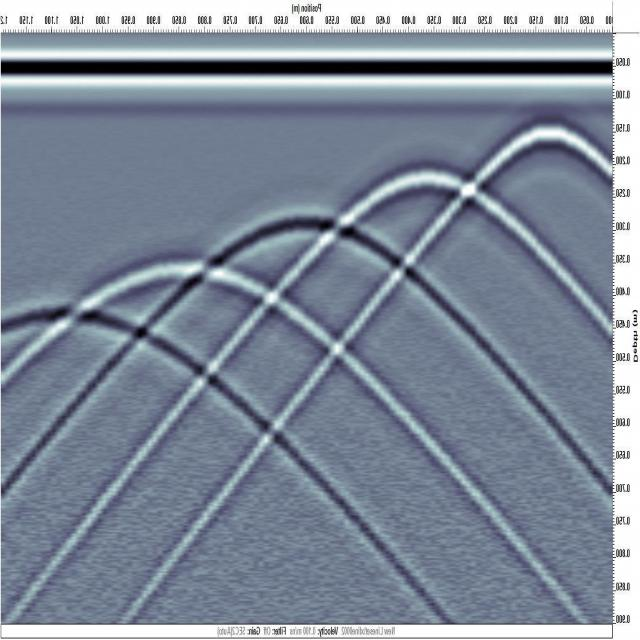hyperbola: (85, 242, 275, 314), (214, 199, 406, 270), (475, 104, 610, 190), (342, 154, 490, 230)
